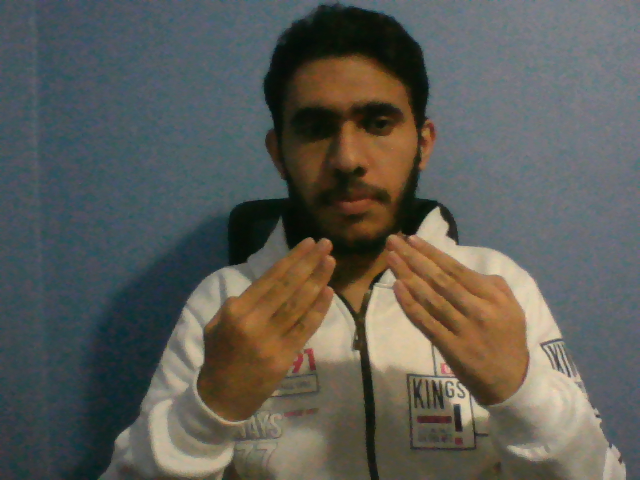thanks: (194, 230, 536, 428)
